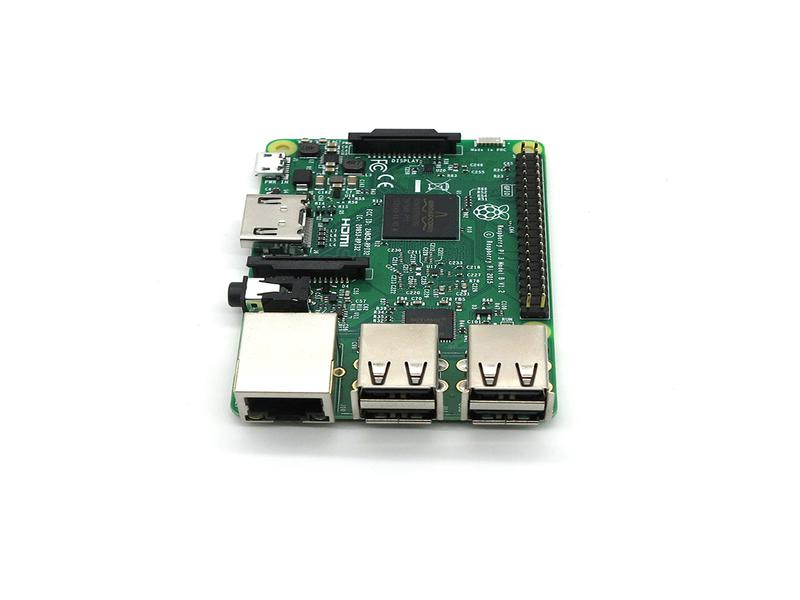Raspberry_Pi_3: (210, 117, 563, 439)
